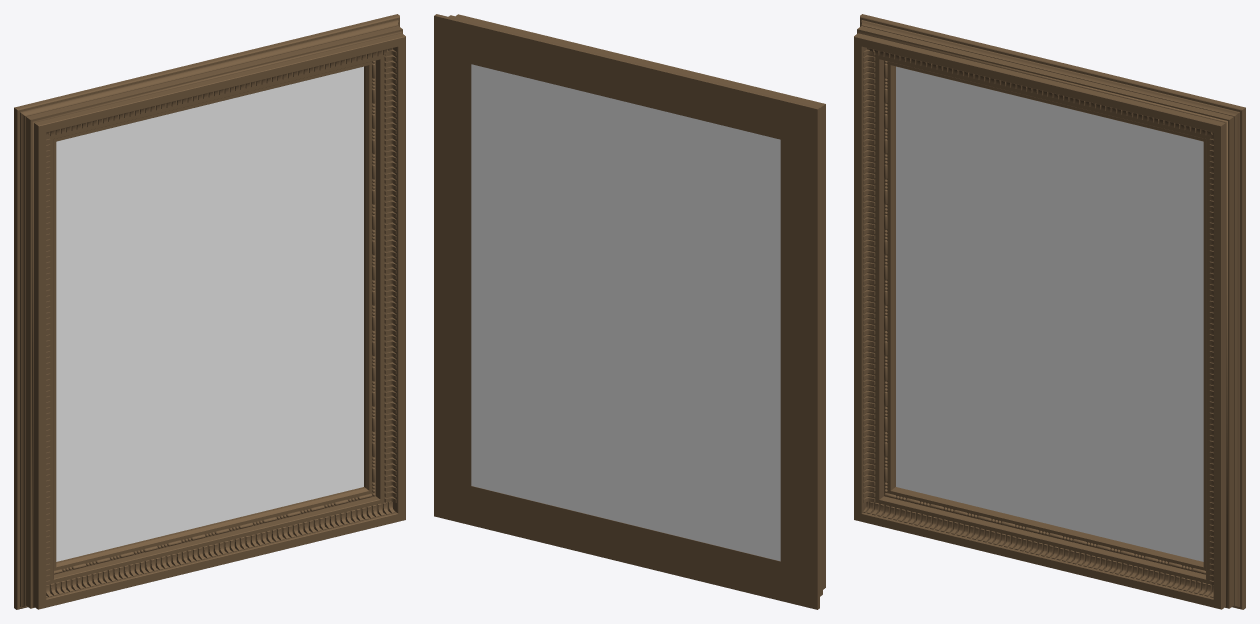
File: CGT_Artwork_19_01.glb
3 views of the same model, side by side, from view 1: azimuth 30°, elevation 25°; view 2: azimuth 150°, elevation 25°; view 3: azimuth 330°, elevation 25° (orthographic).
Parts seen in each view (by area): view 1: CGT_Artwork_19_01; view 2: CGT_Artwork_19_01; view 3: CGT_Artwork_19_01.
Boxes of the visible parts, x1,y1,x2,y2 form: CGT_Artwork_19_01: [14, 14, 405, 609]; CGT_Artwork_19_01: [434, 14, 825, 609]; CGT_Artwork_19_01: [854, 14, 1245, 609].
Size of the model in its own units: 1.75 by 2.18 by 0.1302.
